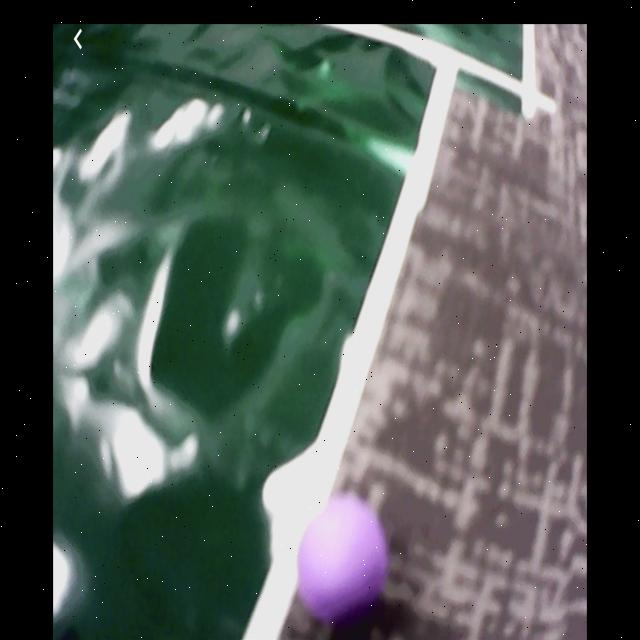ball: (299, 495, 388, 625)
